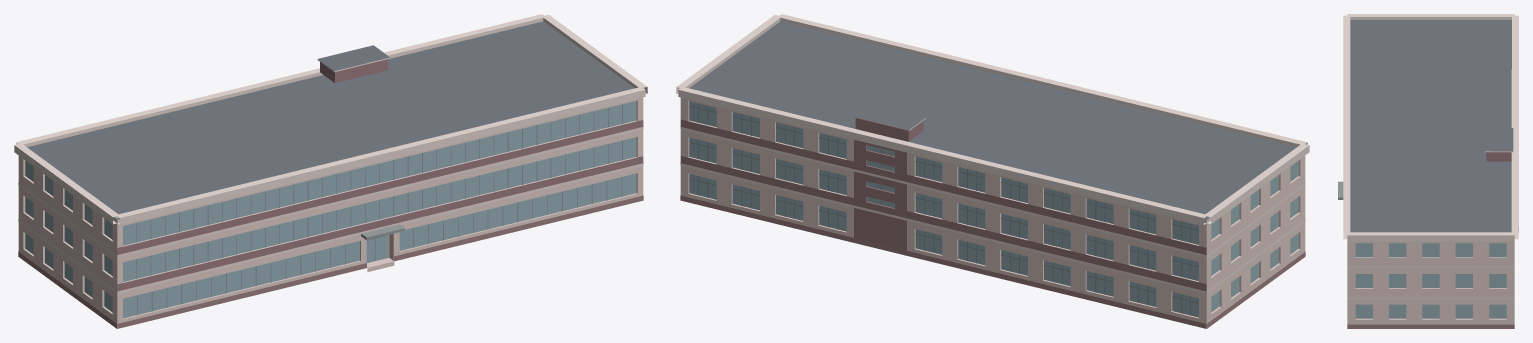
3 views of the same model, side by side, from view 1: azimuth 30°, elevation 25°; view 2: azimuth 150°, elevation 25°; view 3: azimuth 270°, elevation 25° (orthographic). The views are drawn at different scales.
Visible parts, largest first — view 1: b115951762__roof, b115951762__glass, b115951762__wall, b115951762__trim, b115951762__wall2, b115951762__base, b115951762__frame; view 2: b115951762__roof, b115951762__wall, b115951762__glass, b115951762__trim, b115951762__wall2, b115951762__base, b115951762__frame; view 3: b115951762__roof, b115951762__wall, b115951762__trim, b115951762__glass, b115951762__base, b115951762__wall2.
Part boxes in pixels (x1=…): b115951762__roof: x1=27, y1=21, x2=634, y2=328; b115951762__glass: x1=25, y1=101, x2=636, y2=318; b115951762__wall: x1=18, y1=97, x2=643, y2=328; b115951762__trim: x1=14, y1=14, x2=647, y2=293; b115951762__wall2: x1=117, y1=59, x2=643, y2=291; b115951762__base: x1=18, y1=195, x2=643, y2=328; b115951762__frame: x1=136, y1=104, x2=622, y2=315; b115951762__roof: x1=689, y1=21, x2=1296, y2=219; b115951762__wall: x1=680, y1=97, x2=1305, y2=328; b115951762__glass: x1=689, y1=101, x2=1298, y2=317; b115951762__trim: x1=676, y1=14, x2=1309, y2=293; b115951762__wall2: x1=680, y1=118, x2=1206, y2=291; b115951762__base: x1=680, y1=195, x2=1305, y2=328; b115951762__frame: x1=689, y1=103, x2=1198, y2=315; b115951762__roof: x1=1350, y1=20, x2=1513, y2=232; b115951762__wall: x1=1347, y1=241, x2=1514, y2=324; b115951762__trim: x1=1343, y1=14, x2=1518, y2=299; b115951762__glass: x1=1355, y1=243, x2=1506, y2=318; b115951762__base: x1=1347, y1=324, x2=1514, y2=328; b115951762__wall2: x1=1486, y1=152, x2=1511, y2=161.
Size of the model in its own units: 55.45 by 12.85 by 19.16.
